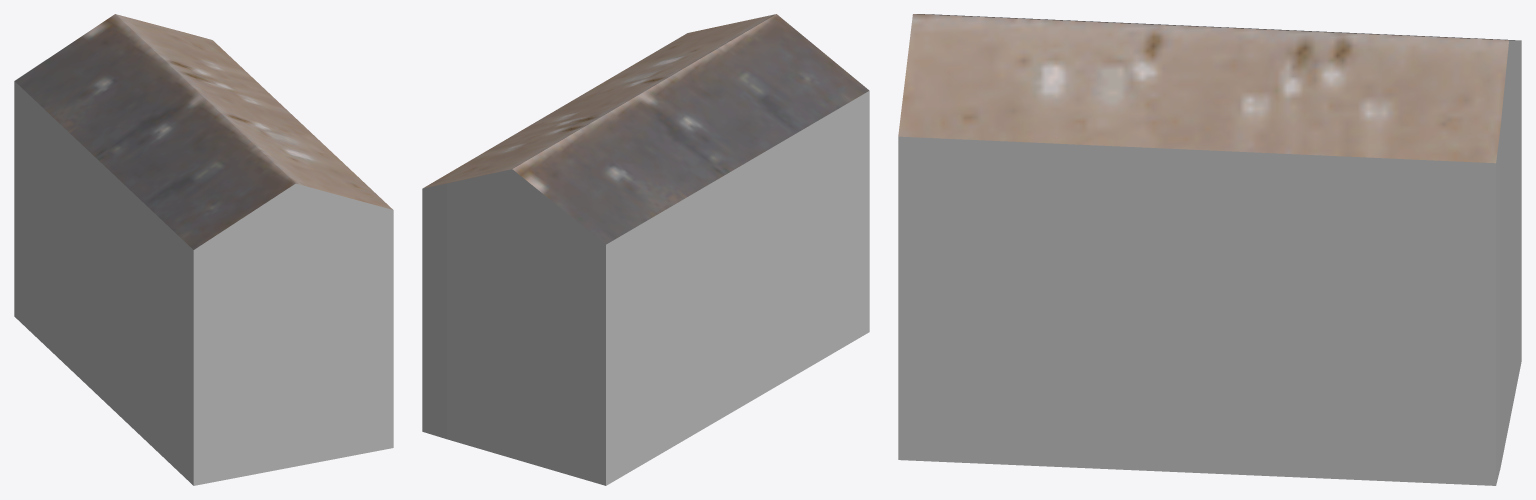
Rendered from DEBW_0010007TxiH.gltf.
3 views of the same model, side by side, from view 1: azimuth 30°, elevation 25°; view 2: azimuth 150°, elevation 25°; view 3: azimuth 270°, elevation 25° (orthographic). The views are drawn at different scales.
Visible parts, largest first — view 1: Z_UP; view 2: Z_UP; view 3: Z_UP.
Part boxes in pixels (x1=…): Z_UP: x1=14, y1=14, x2=393, y2=485; Z_UP: x1=422, y1=14, x2=869, y2=485; Z_UP: x1=898, y1=14, x2=1521, y2=485.
Size of the model in its own units: 13.23 by 15.7 by 23.06.
Materials: 2 (1 with a texture image).
